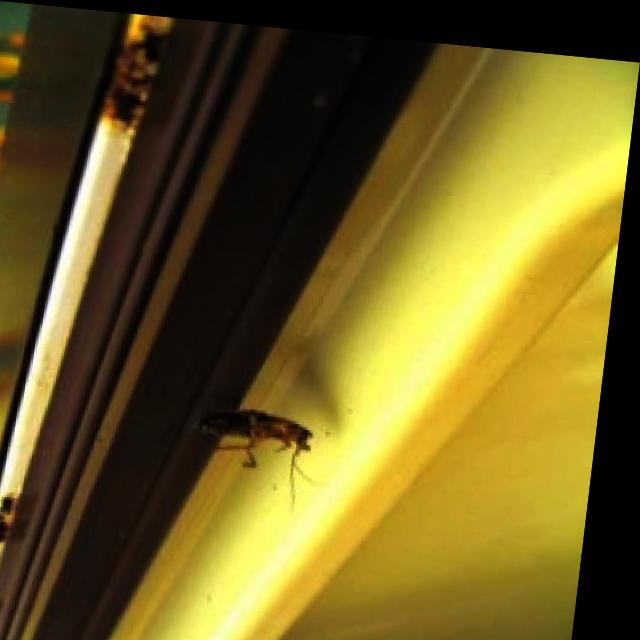cockroach: (192, 401, 322, 513)
